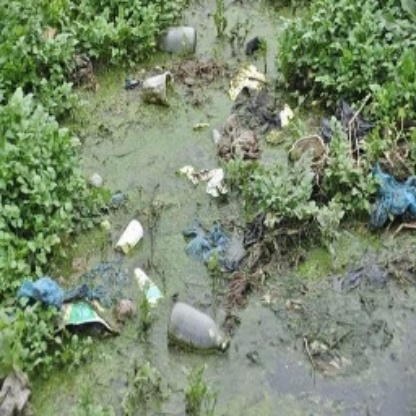bottle: (166, 302, 233, 353)
plastic-bag: (363, 164, 416, 229)
